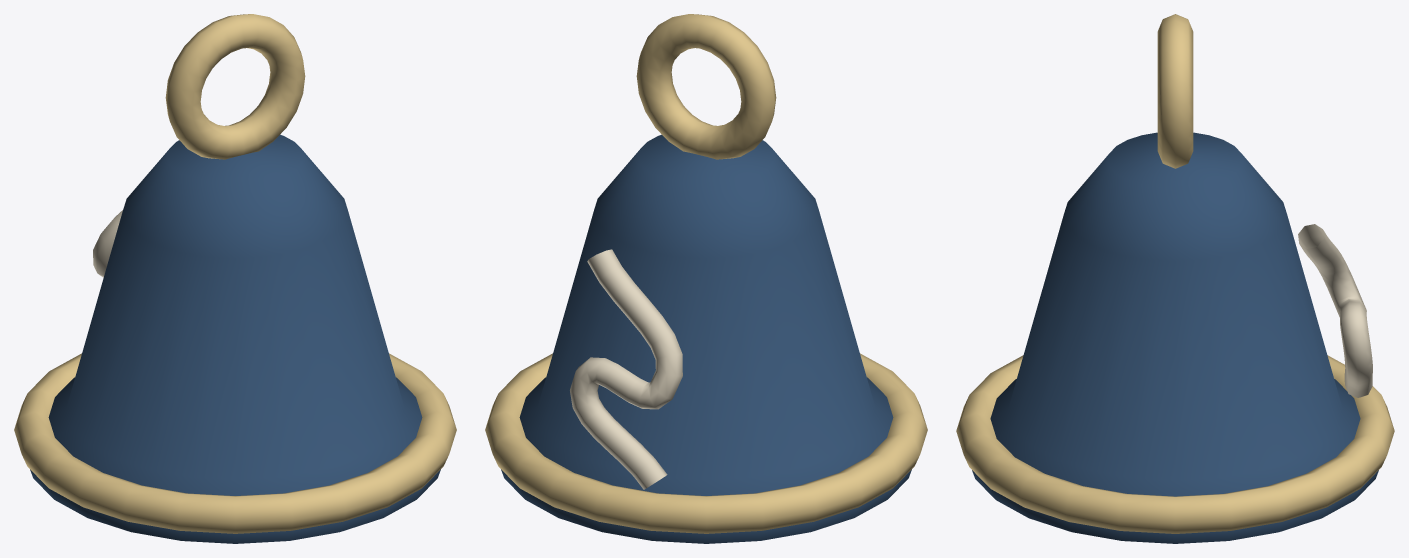
File: item-storm-bell.glb
3 views of the same model, side by side, from view 1: azimuth 30°, elevation 25°; view 2: azimuth 150°, elevation 25°; view 3: azimuth 270°, elevation 25° (orthographic).
Parts seen in each view (by area): view 1: Item_storm-bell_VertexPalette; view 2: Item_storm-bell_VertexPalette; view 3: Item_storm-bell_VertexPalette.
Part boxes in pixels (x1,y1,x2,y2): Item_storm-bell_VertexPalette: (14, 14, 456, 543); Item_storm-bell_VertexPalette: (485, 14, 927, 543); Item_storm-bell_VertexPalette: (956, 14, 1394, 543).
Size of the model in its own units: 1.1 by 1.38 by 1.1.
